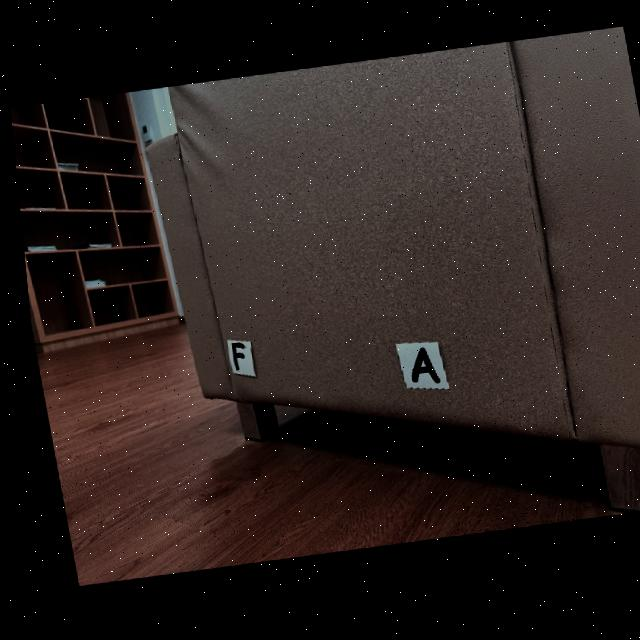F: (225, 345, 238, 372)
